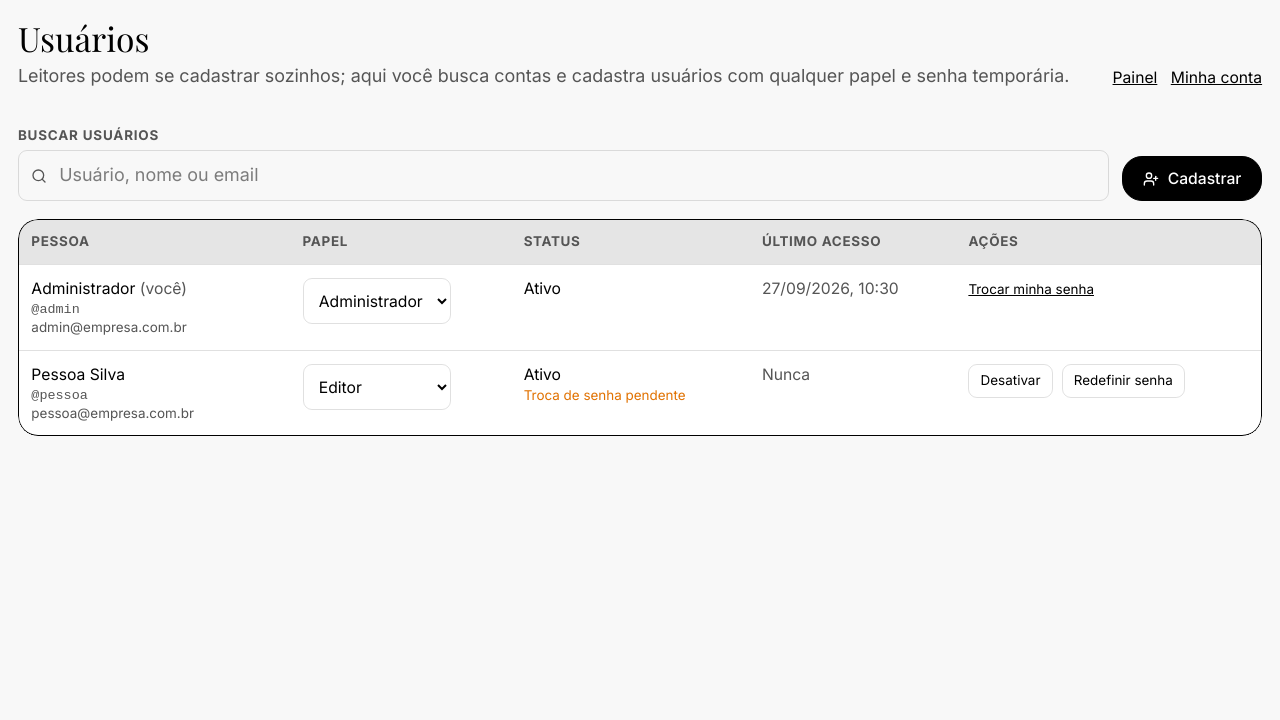
it: UsersManager › copiar usa a área de transferência só por ação do admin
This screenshot has width=1280, height=720.
What coordinates should you click on to do the following:
click the button "Redefinir senha"
I would click on:
 (1123, 381)
Its box is x1=1062 y1=364 x2=1185 y2=398.
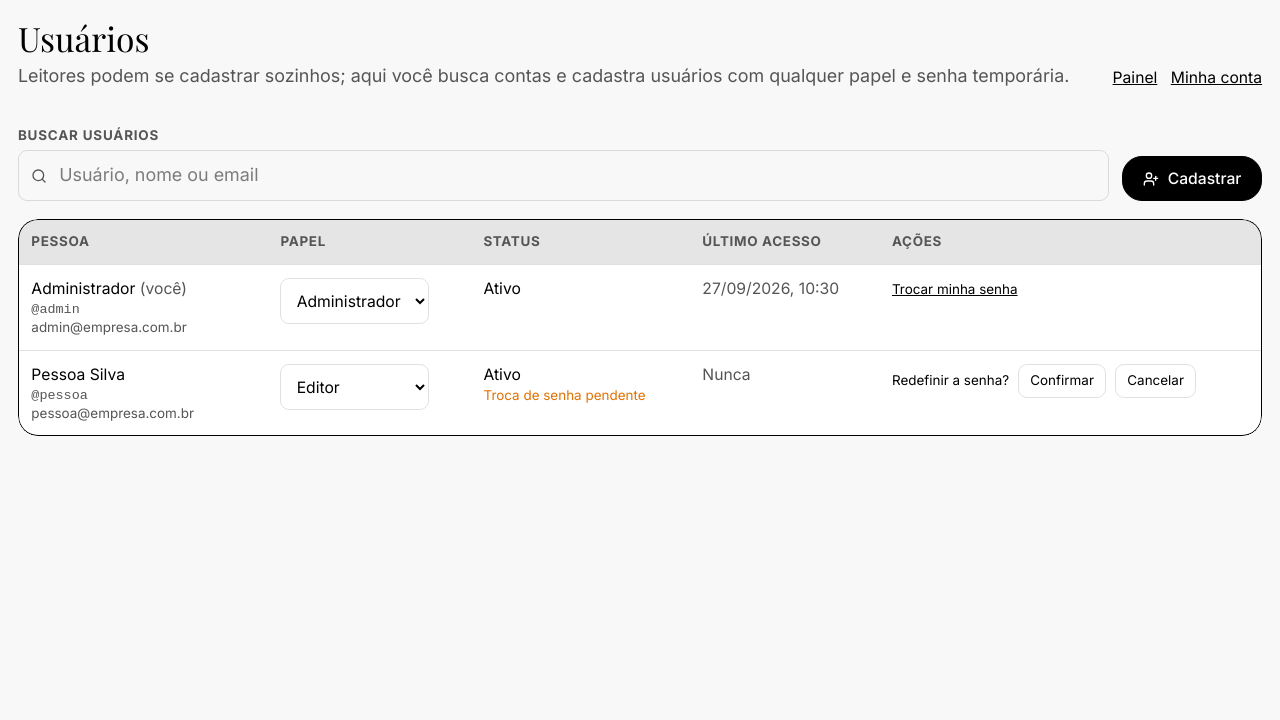
What coordinates should you click on to do the following:
click the button "Confirmar"
I would click on:
 (1062, 381)
Its box is x1=1018 y1=364 x2=1106 y2=398.
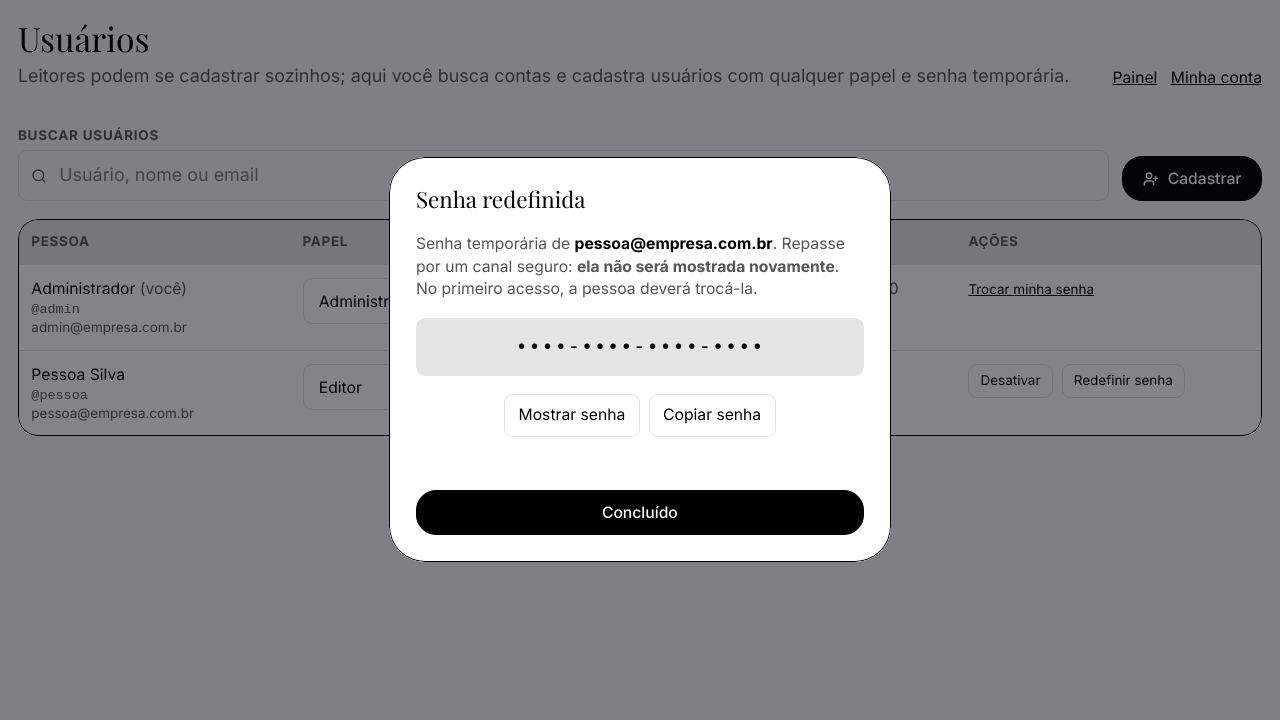
What coordinates should you click on to do the following:
click the button "Copiar senha"
I would click on:
 (712, 416)
Its box is x1=649 y1=395 x2=776 y2=437.
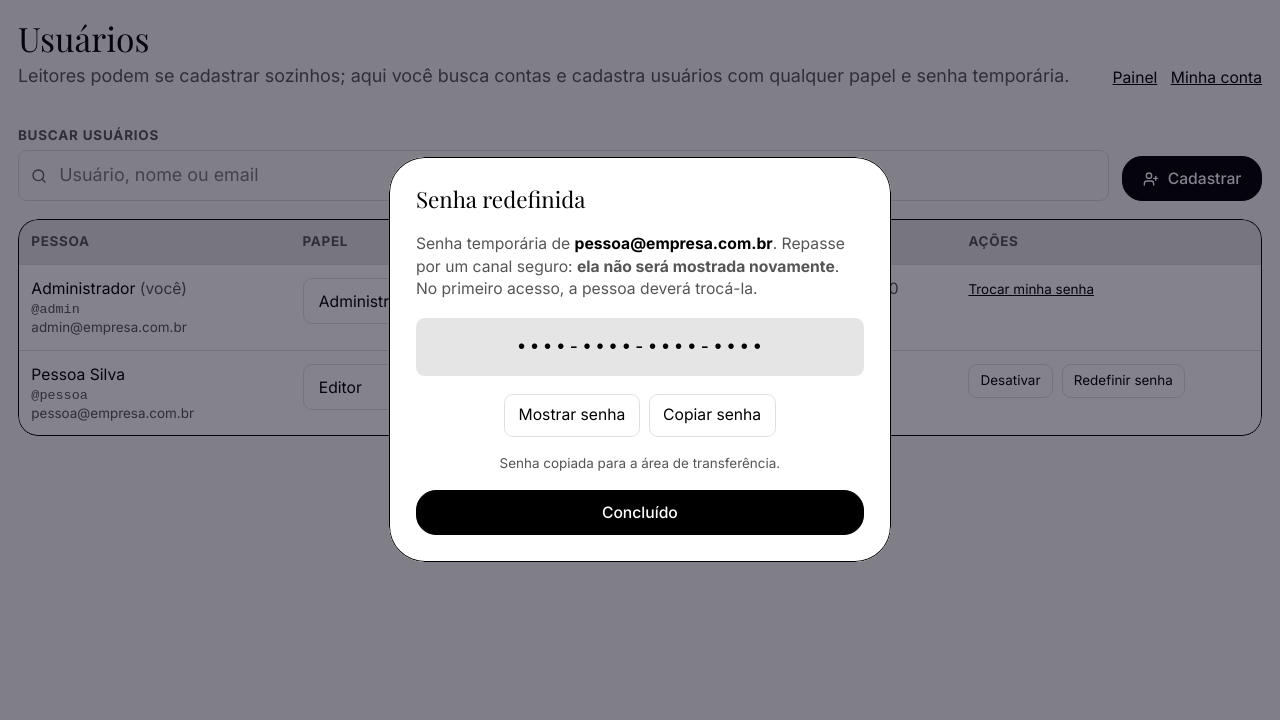
Expected: the text "Senha copiada para a área de transferência." is shown, x1=500 y1=455 x2=780 y2=471
